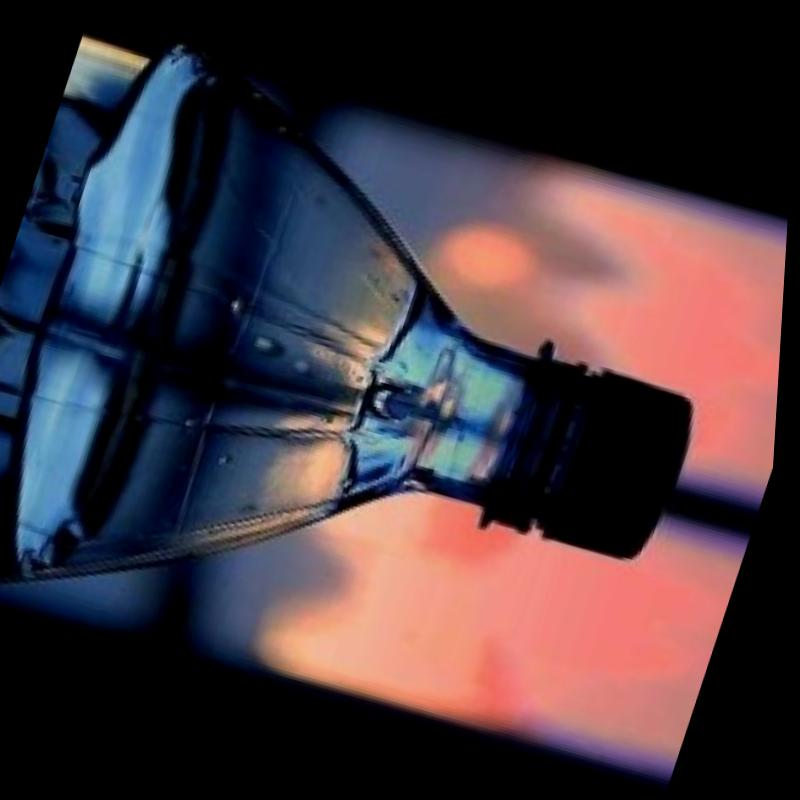botella: (0, 27, 773, 761)
